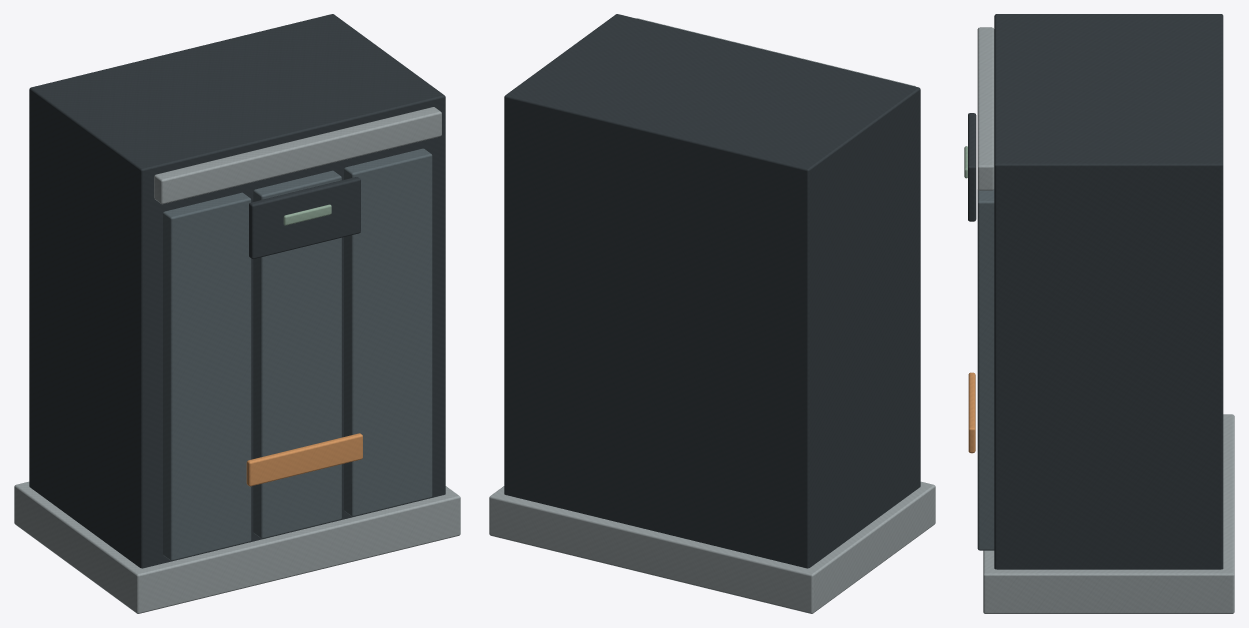
File: FacilityBatteryBank.fbx
The picture shows the model from 3 angles, left to right: view 1: azimuth 30°, elevation 25°; view 2: azimuth 150°, elevation 25°; view 3: azimuth 270°, elevation 25°; orthographic projection.
Visible parts, largest first — view 1: FacilityBatteryBank_Mesh; view 2: FacilityBatteryBank_Mesh; view 3: FacilityBatteryBank_Mesh.
Part boxes in pixels (x1=…): FacilityBatteryBank_Mesh: x1=14, y1=14, x2=460, y2=613; FacilityBatteryBank_Mesh: x1=489, y1=14, x2=935, y2=613; FacilityBatteryBank_Mesh: x1=964, y1=14, x2=1234, y2=613.
Bounding box in the file's own units: 136 × 176 × 96.75.
Materials: 5 (5 with a texture image).
